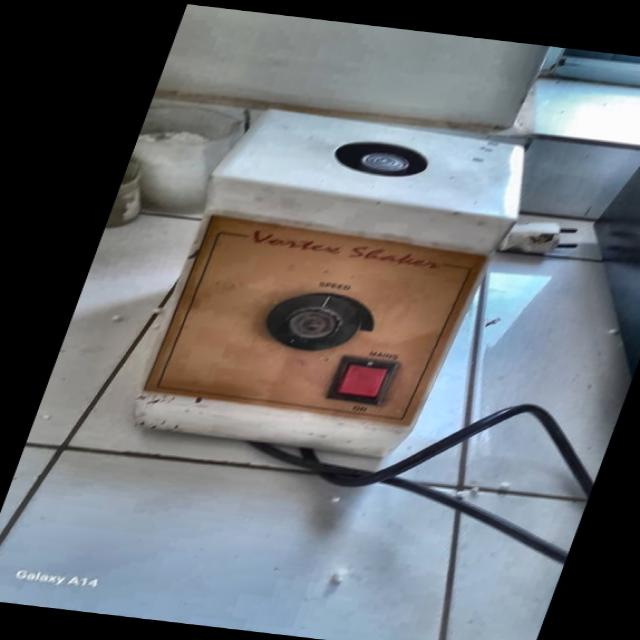Vortex: (111, 101, 550, 483)
